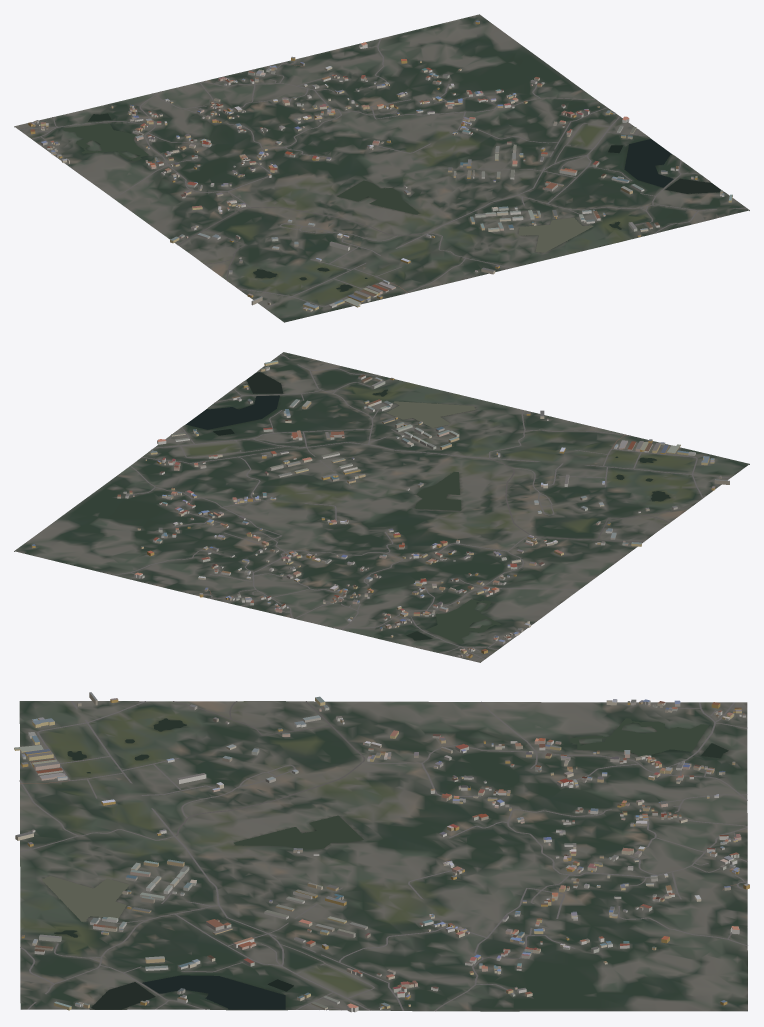
3 views of the same model, one above another, from view 1: azimuth 30°, elevation 25°; view 2: azimuth 150°, elevation 25°; view 3: azimuth 270°, elevation 25° (orthographic). The views are drawn at different scales.
Parts seen in each view (by area): view 1: ground, buildings, water, roads; view 2: ground, buildings, water, roads; view 3: ground, buildings, water, roads.
Part boxes in pixels (left/top/right/bottom): ground: left=14, top=14, right=749, bottom=322; buildings: left=28, top=20, right=732, bottom=311; water: left=62, top=113, right=721, bottom=291; roads: left=18, top=38, right=747, bottom=308; ground: left=14, top=352, right=749, bottom=662; buildings: left=31, top=360, right=729, bottom=658; water: left=186, top=372, right=670, bottom=644; roads: left=113, top=354, right=730, bottom=661; ground: left=19, top=701, right=747, bottom=1011; buildings: left=14, top=692, right=749, bottom=1012; water: left=42, top=718, right=728, bottom=1009; roads: left=19, top=701, right=747, bottom=1011.
Size of the model in its own units: 1423 by 22.39 by 1418.
